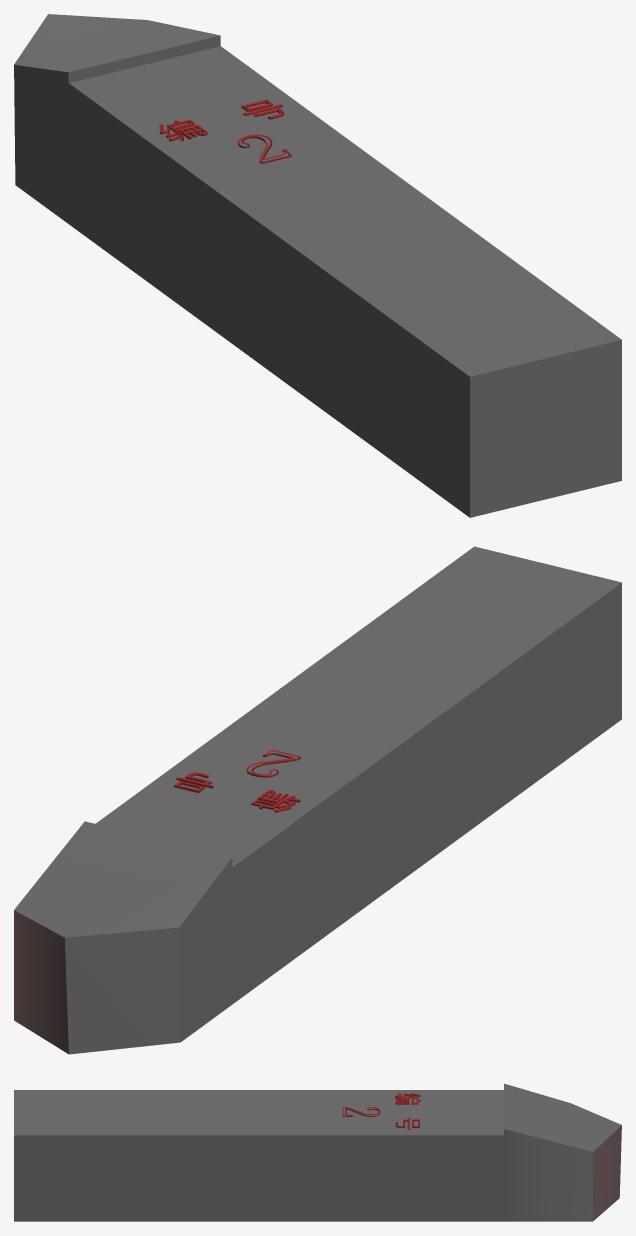
Rendered from num02车刀.FBX.
3 renders of one model, top to bottom at view 1: azimuth 30°, elevation 25°; view 2: azimuth 150°, elevation 25°; view 3: azimuth 270°, elevation 25°, orthographic. The views are drawn at different scales.
Parts seen in each view (by area): view 1: 操作车刀2; view 2: 操作车刀2; view 3: 操作车刀2.
Part boxes in pixels (left/top/right/bottom): 操作车刀2: left=14, top=14, right=621, bottom=517; 操作车刀2: left=14, top=546, right=621, bottom=1054; 操作车刀2: left=14, top=1083, right=621, bottom=1221.
Size of the model in its own units: 15.58 by 88.4 by 14.87.
